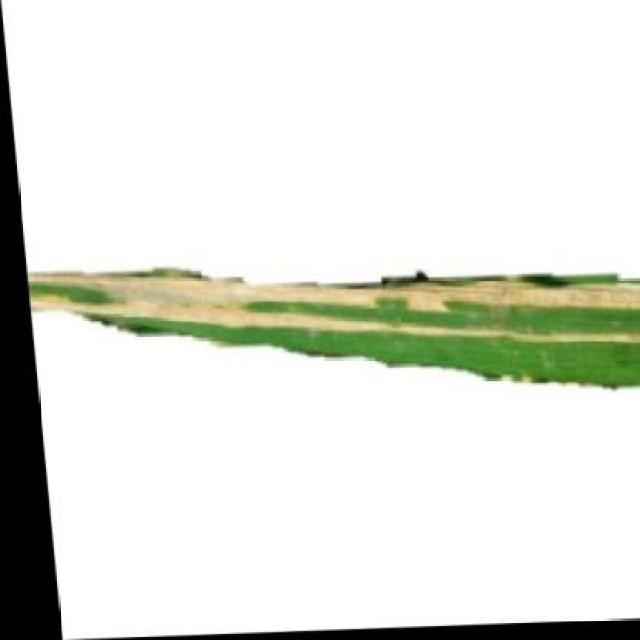Brown_Spot: (20, 249, 640, 414)
